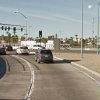Car: (33, 40, 58, 71)
